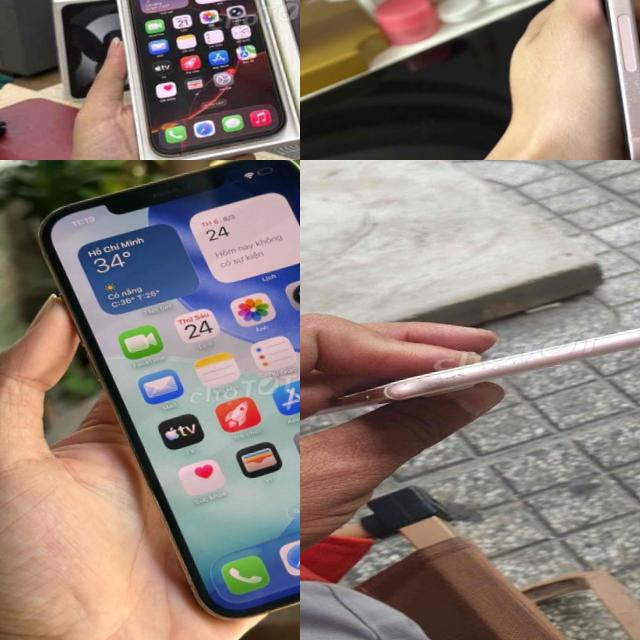gen_12_13: (26, 160, 300, 638)
gen_15: (549, 0, 640, 160)
gen_16: (118, 0, 291, 160)
gen_7_8: (312, 308, 640, 409)
